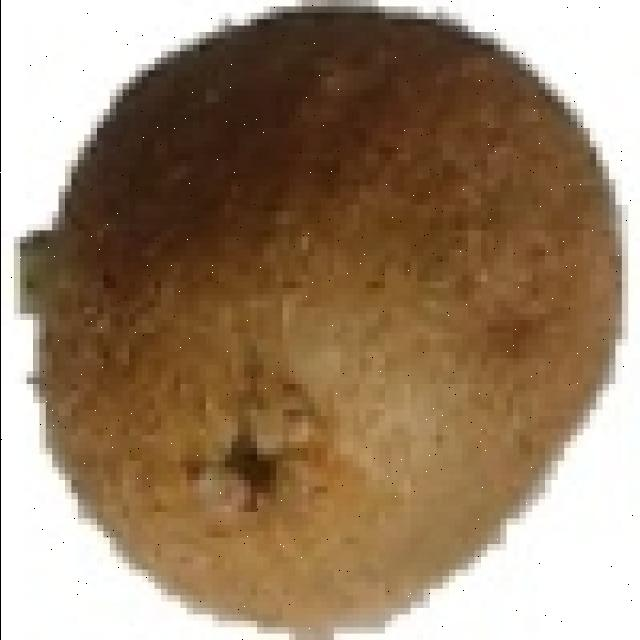kiwi: (32, 26, 627, 634)
